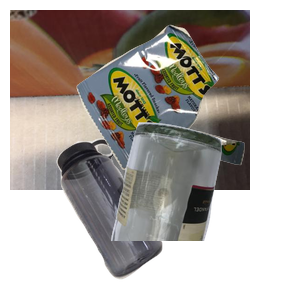cardboard: (10, 10, 250, 190)
glass: (109, 120, 300, 300)
plastic: (54, 136, 209, 300)
trash: (74, 22, 300, 185)
